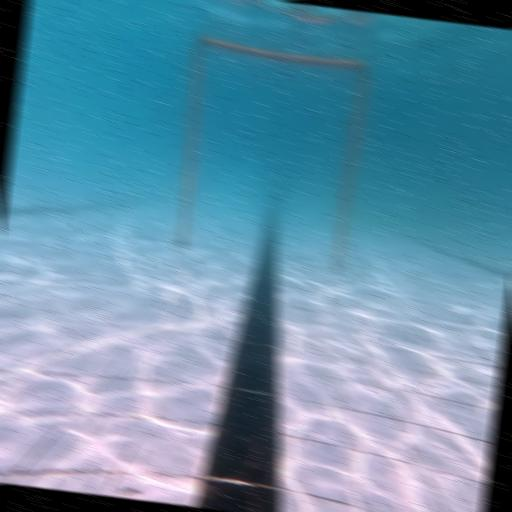gate: (170, 34, 374, 270)
